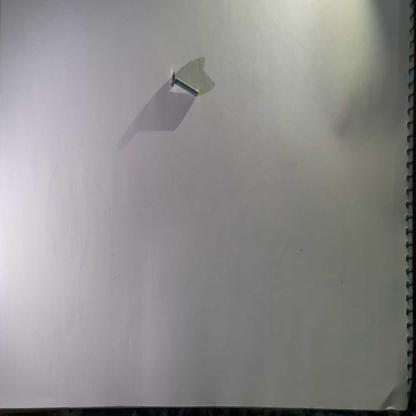Bolts: (168, 64, 202, 100)
